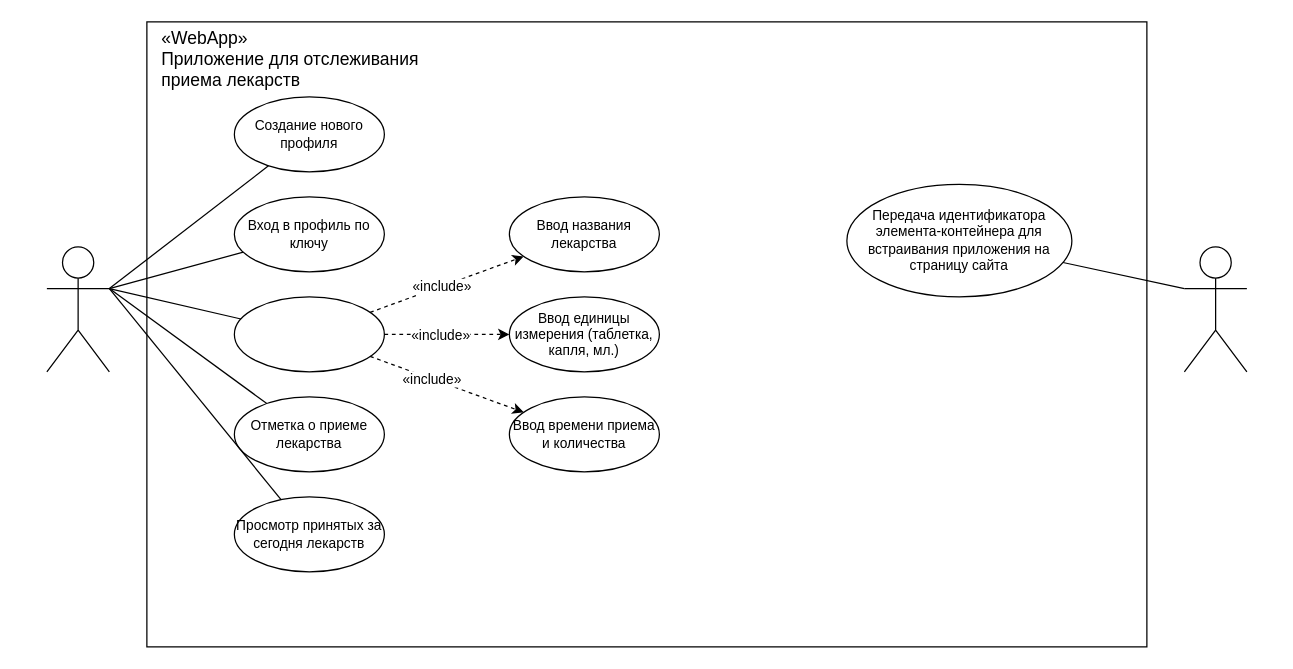
This 1293x669 diagram has some shape labels left out. Here are the shapes that lost their labels. From the top down, the centre of each, then its label:
At (x=77, y=309): "Пользователь".
At (x=1215, y=309): "Разработчик сайта".
At (x=308, y=334): "Добавление лекарства".
